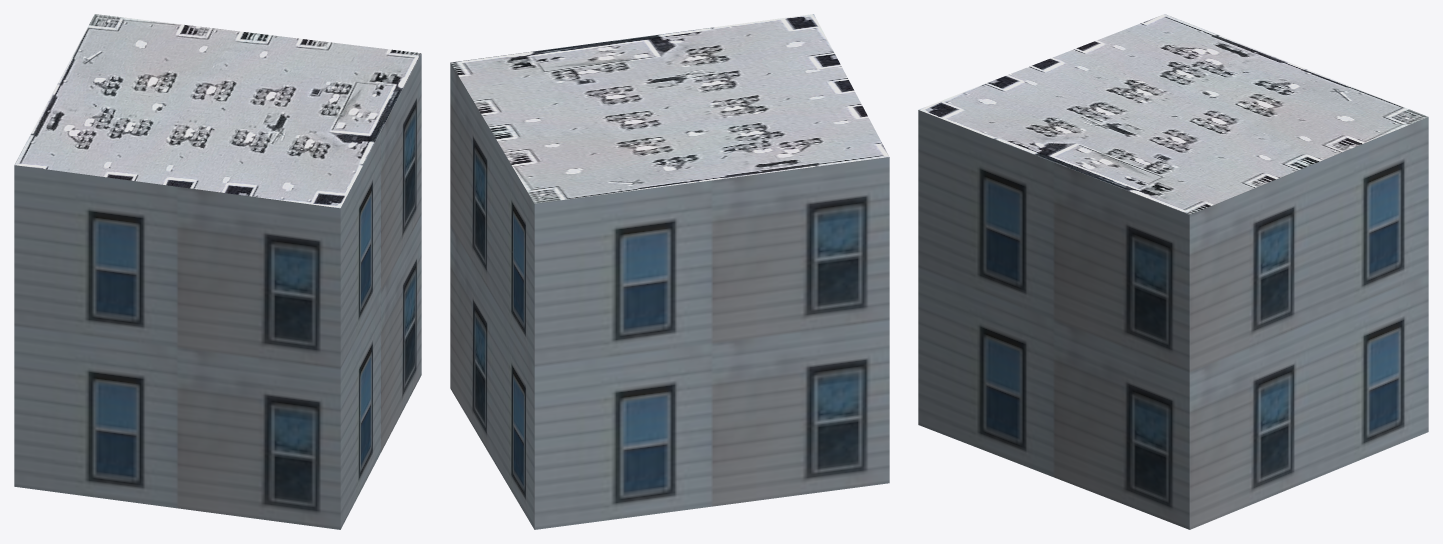
File: ResTex__1285.fbx
3 views of the same model, side by side, from view 1: azimuth 30°, elevation 25°; view 2: azimuth 150°, elevation 25°; view 3: azimuth 270°, elevation 25° (orthographic). The views are drawn at different scales.
Visible parts, largest first — view 1: CityEngineMaterial_18_m, CityEngineMaterial_4_m; view 2: CityEngineMaterial_18_m, CityEngineMaterial_4_m; view 3: CityEngineMaterial_18_m, CityEngineMaterial_4_m.
Boxes of the visible parts, <box> form: CityEngineMaterial_18_m: <box>14,54,421,529</box>; CityEngineMaterial_4_m: <box>14,14,421,208</box>; CityEngineMaterial_18_m: <box>450,63,889,529</box>; CityEngineMaterial_4_m: <box>450,14,889,203</box>; CityEngineMaterial_18_m: <box>918,110,1428,529</box>; CityEngineMaterial_4_m: <box>918,14,1428,214</box>.
Size of the model in its own units: 8.21 by 6 by 8.81.
2 materials, 2 textured.
